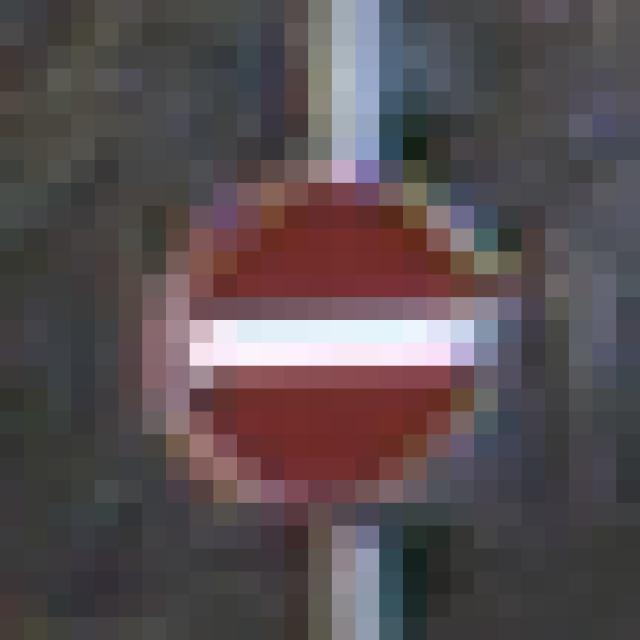No Entry: (120, 138, 523, 527)
